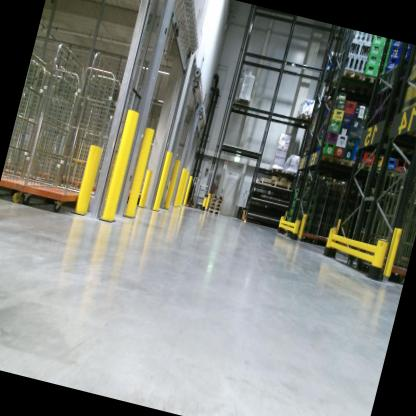pallet: (330, 65, 364, 94), (354, 71, 384, 96), (318, 151, 343, 170), (403, 101, 416, 137), (358, 160, 383, 176), (293, 110, 312, 128), (337, 157, 359, 172), (232, 95, 250, 111), (269, 164, 284, 175), (210, 191, 225, 201), (208, 200, 222, 209), (205, 208, 222, 215), (284, 169, 297, 178), (206, 204, 221, 211), (209, 197, 223, 204)
pallet_truck: (182, 167, 205, 210), (236, 187, 254, 223)
